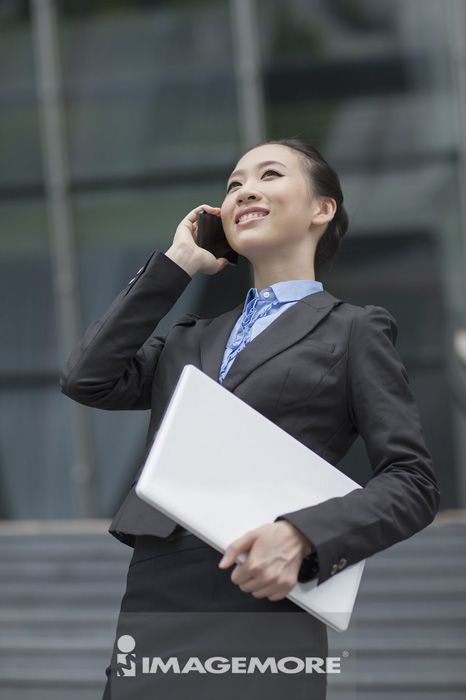phone: (195, 209, 239, 266)
talk: (172, 158, 305, 279)
